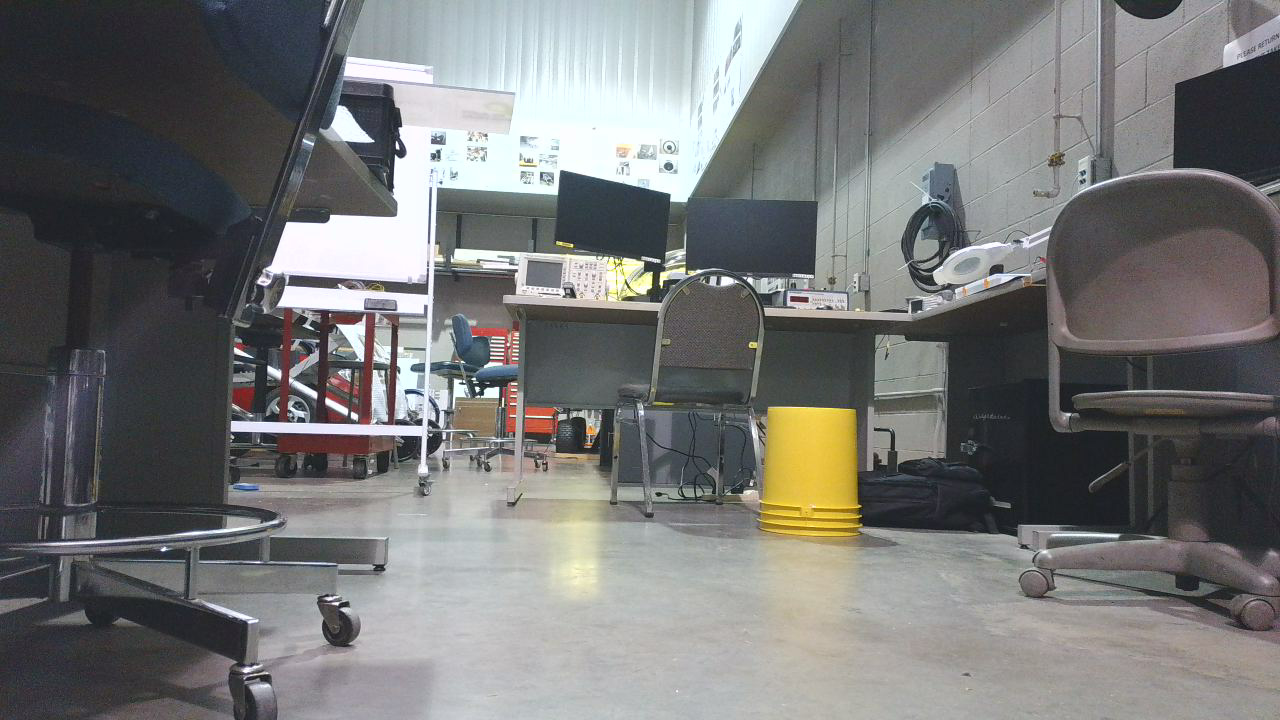yellow_bucket: (762, 411, 869, 543)
